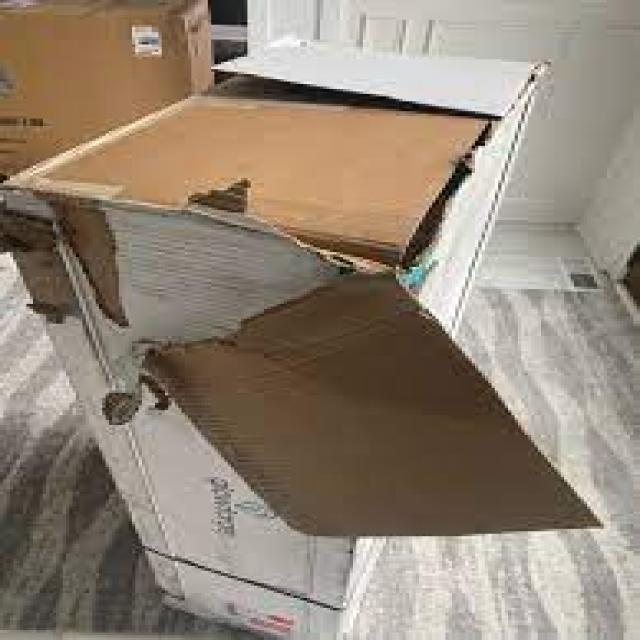Kardus kondisi rusak: (2, 37, 608, 639)
